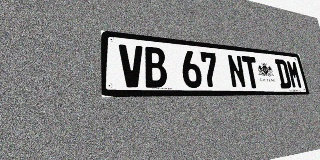6: (180, 50, 203, 88)
7: (199, 52, 221, 88)
B: (143, 46, 168, 88)
D: (274, 59, 292, 88)
M: (286, 60, 303, 89)
N: (226, 54, 247, 88)
T: (241, 56, 261, 88)
V: (119, 44, 145, 88)
